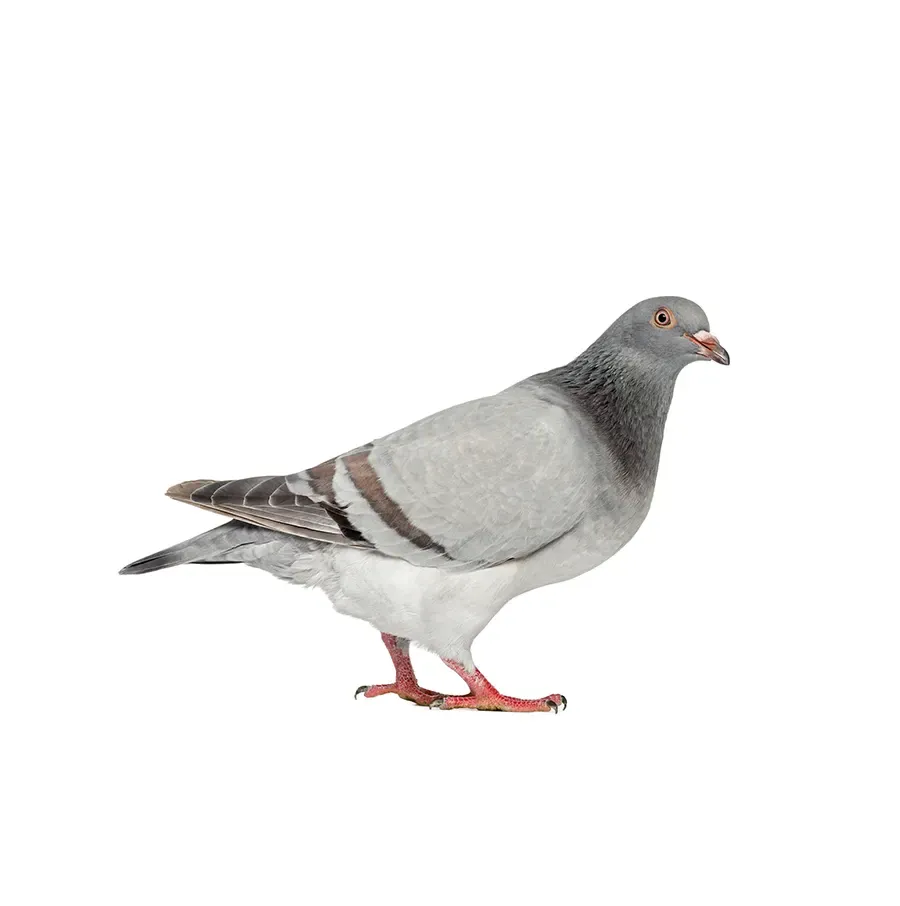Flying Rat: (88, 271, 772, 734)
